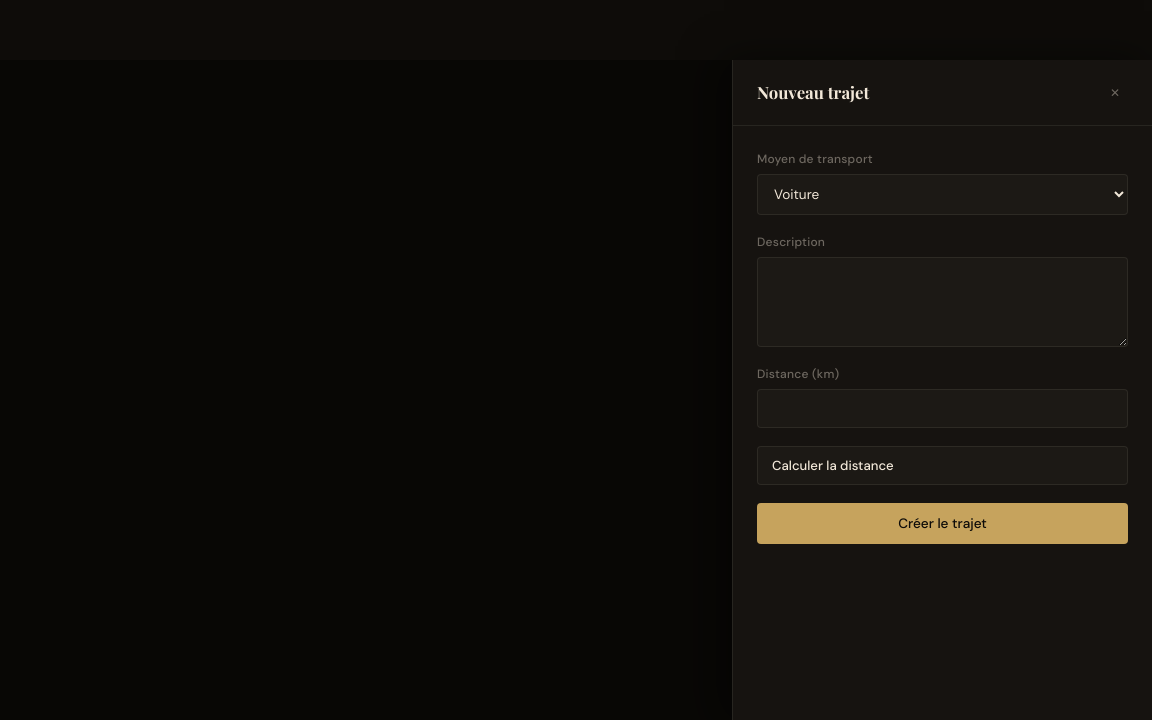
it: TravelLegForm › displays calculated distances with two decimal places
The image size is (1152, 720).
Click the button "Calculer la distance".
click(833, 466)  # box [757,446,1128,485]
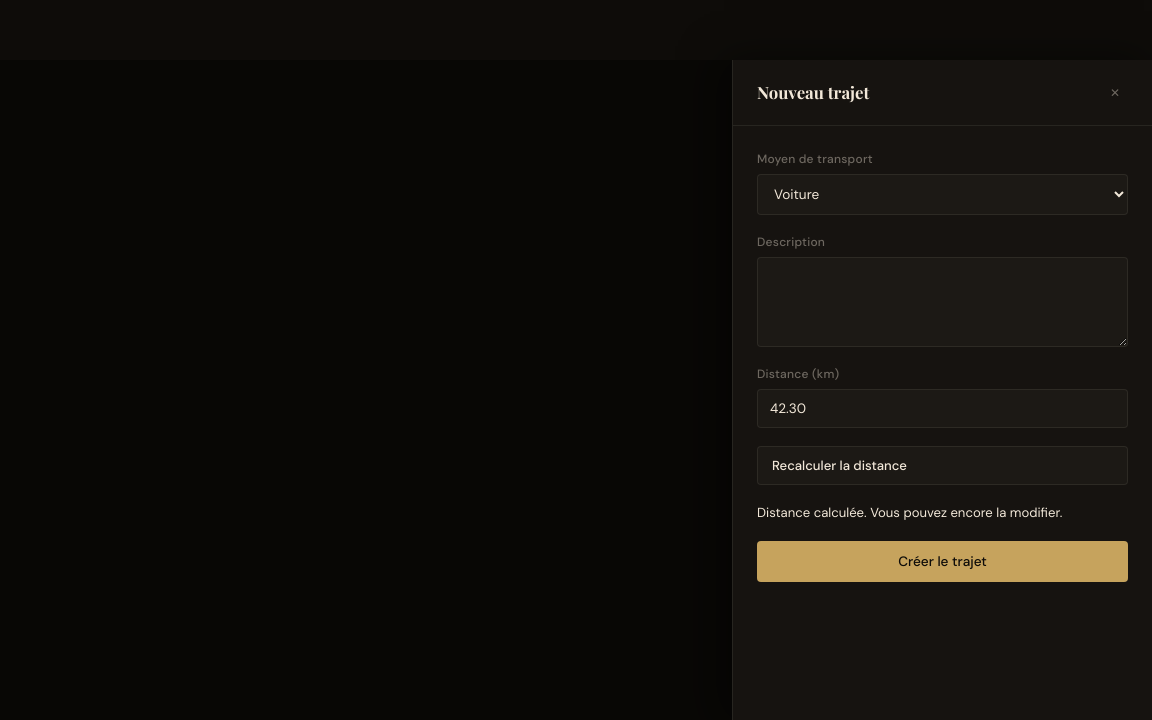
Check: the number field labelled "Distance (km)" holds "42.3", box [757,389,1128,428]
Check: the number field labelled "Distance (km)" holds "42.30", box [757,389,1128,428]
